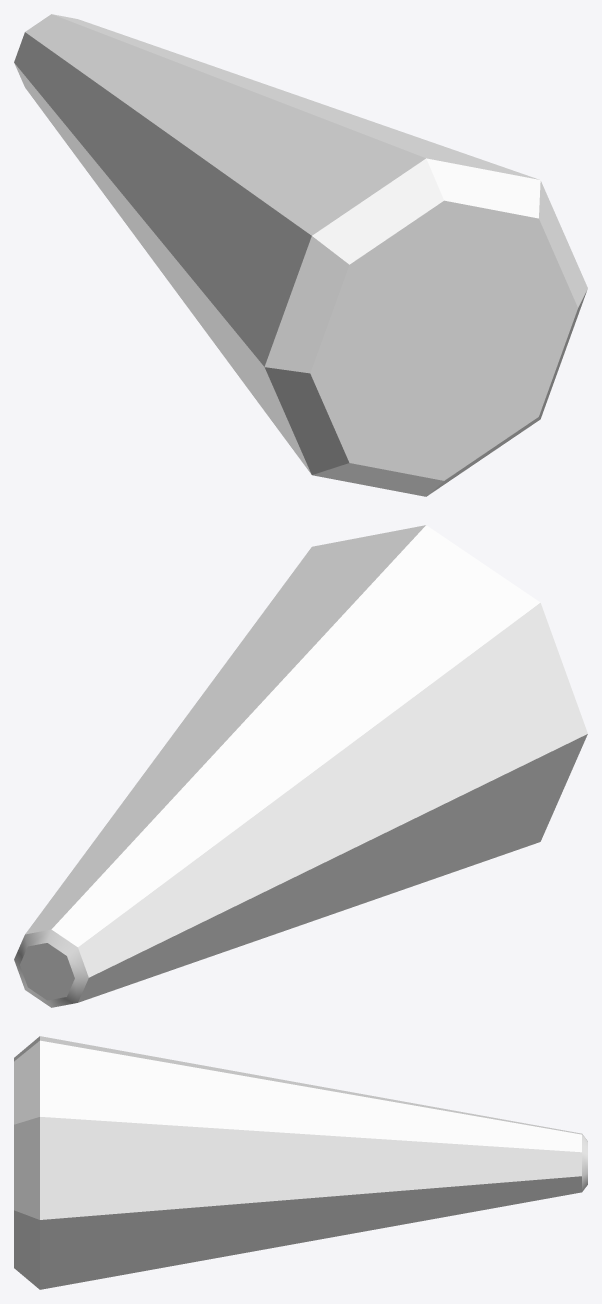
Rendered from carrot.fbx.
3 views of the same model, one above another, from view 1: azimuth 30°, elevation 25°; view 2: azimuth 150°, elevation 25°; view 3: azimuth 270°, elevation 25° (orthographic). The views are drawn at different scales.
Visible parts, largest first — view 1: Cylinder010; view 2: Cylinder010; view 3: Cylinder010.
Boxes of the visible parts, <box> form: Cylinder010: <box>14,14,587,496</box>; Cylinder010: <box>14,525,587,1007</box>; Cylinder010: <box>14,1036,587,1289</box>.
Size of the model in its own units: 19.9 by 19.9 by 42.28.
